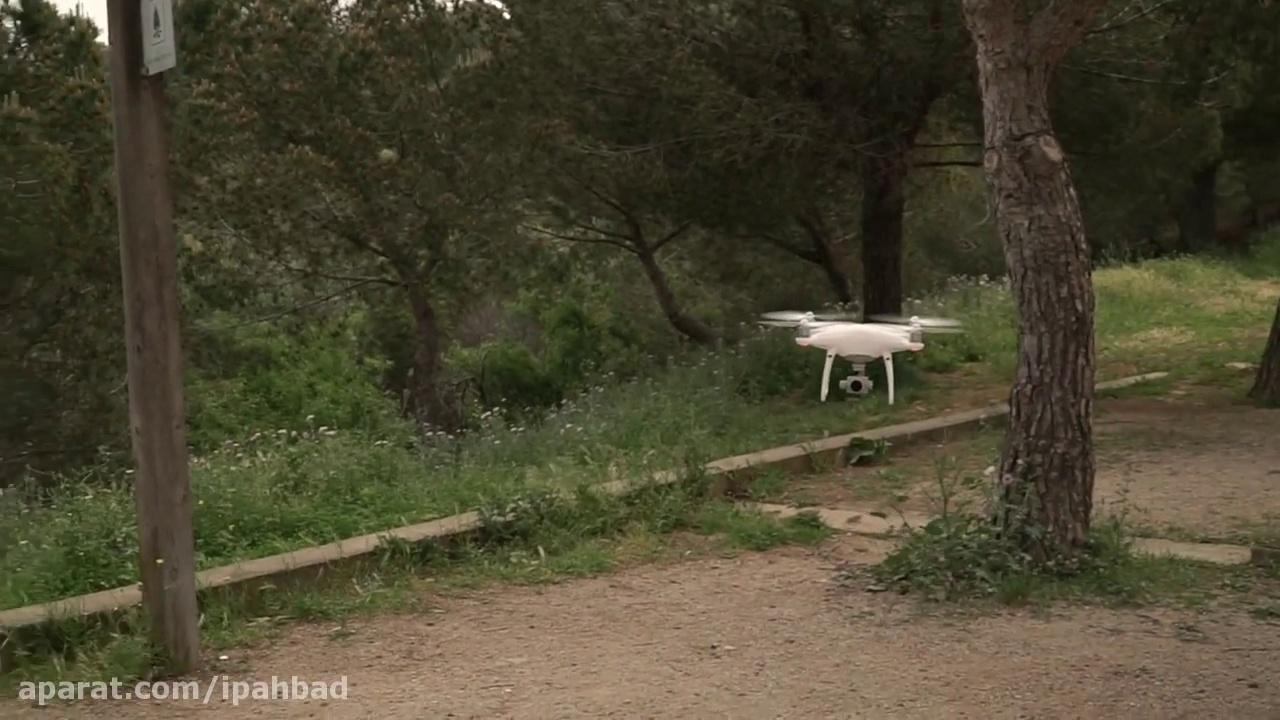drone: (754, 310, 970, 401)
